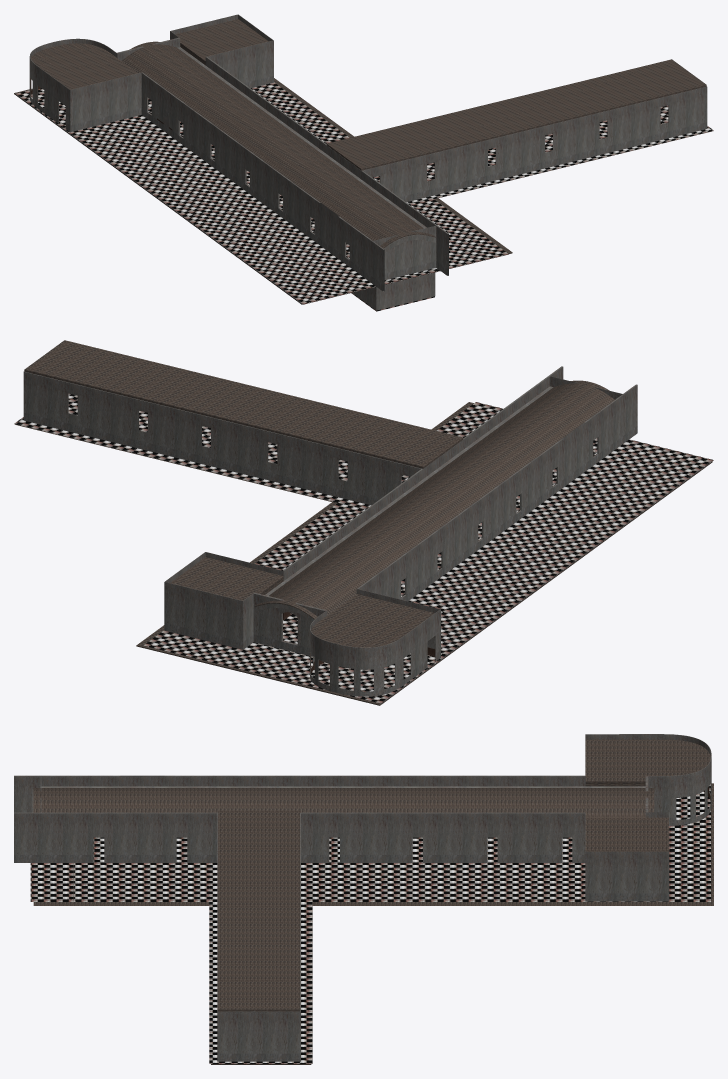
Rendered from EstruturaFinal.fbx.
3 renders of one model, top to bottom at view 1: azimuth 30°, elevation 25°; view 2: azimuth 150°, elevation 25°; view 3: azimuth 270°, elevation 25°, orthographic. The views are drawn at different scales.
Parts seen in each view (by area): view 1: parede, forro, PISO DE CIMA, pilares; view 2: parede, forro, PISO DE CIMA, pilares; view 3: parede, forro, PISO DE CIMA, pilares.
Boxes of the visible parts, box(x1,y1,x2,y2) form: parede: box(29, 14, 707, 310); forro: box(14, 19, 712, 304); PISO DE CIMA: box(15, 82, 713, 311); pilares: box(163, 47, 436, 252); parede: box(23, 366, 637, 696); forro: box(15, 340, 712, 705); PISO DE CIMA: box(14, 393, 713, 703); pilares: box(256, 386, 553, 621); parede: box(14, 734, 711, 1061); forro: box(33, 739, 713, 1064); PISO DE CIMA: box(30, 784, 710, 1063); pilares: box(32, 786, 645, 812).
Size of what is drawn, in the model's own units: 5315 by 767 by 5604.
